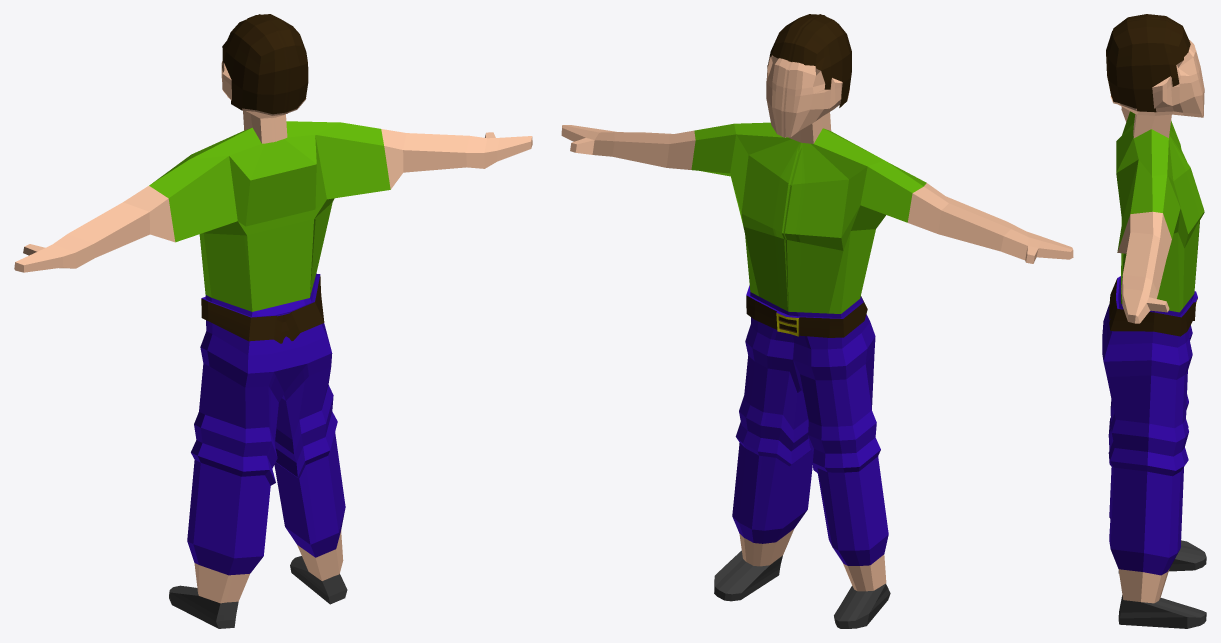
The model's file is PROTABUENO.fbx.
The picture shows the model from 3 angles, left to right: view 1: azimuth 30°, elevation 25°; view 2: azimuth 150°, elevation 25°; view 3: azimuth 270°, elevation 25°; orthographic projection.
Visible parts, largest first — view 1: Cube; view 2: Cube; view 3: Cube.
Boxes of the visible parts, x1,y1,x2,y2 form: Cube: (14, 14, 532, 628); Cube: (561, 14, 1073, 628); Cube: (1102, 14, 1206, 628).
Bounding box in the file's own units: 922 × 997 × 163.
